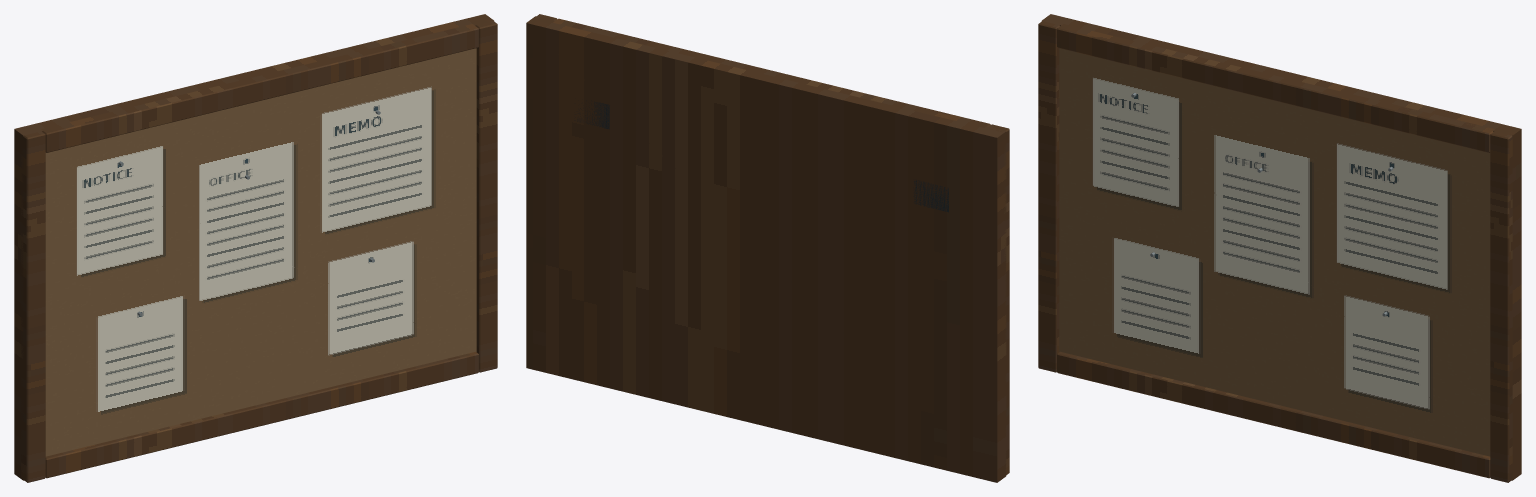
The model's file is office_noticeboard.glb.
3 renders of one model, left to right at view 1: azimuth 30°, elevation 25°; view 2: azimuth 150°, elevation 25°; view 3: azimuth 330°, elevation 25°, orthographic.
Visible parts, largest first — view 1: core_office_noticeboard; view 2: core_office_noticeboard; view 3: core_office_noticeboard.
Boxes of the visible parts, x1=… form: core_office_noticeboard: x1=14, y1=14, x2=497, y2=482; core_office_noticeboard: x1=526, y1=14, x2=1009, y2=482; core_office_noticeboard: x1=1038, y1=14, x2=1521, y2=482.
Bounding box in the file's own units: 1 × 0.7 × 0.0485.
5 materials, 5 textured.
